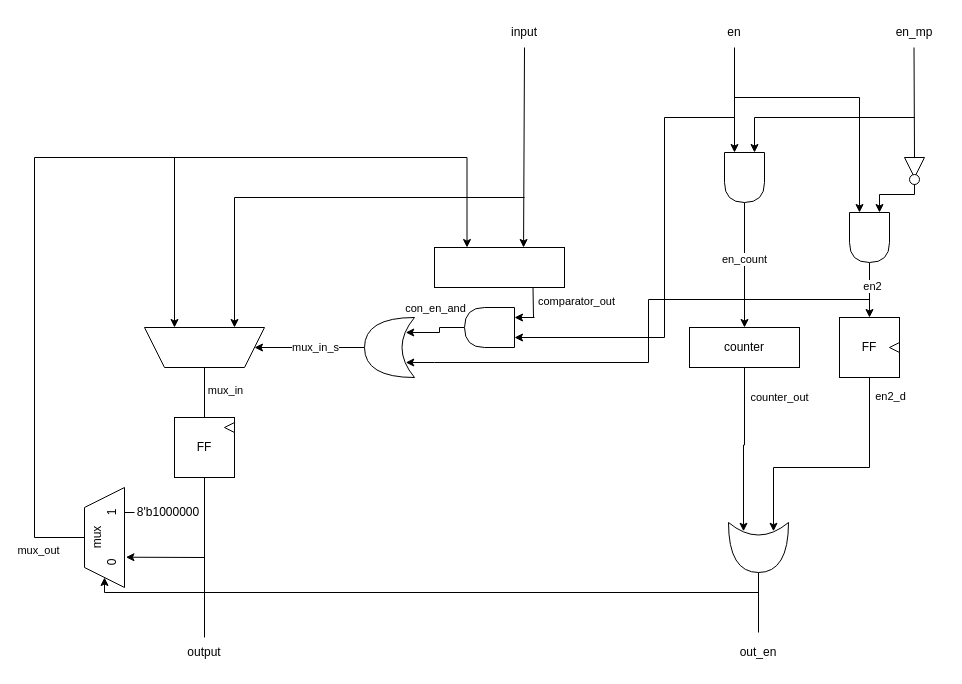
Some shapes in this 962 by 684 pixel diagram are drawn without their labels. Each missing label, with the centre of its shape:
0 1 comparator: pixel 499 267
mux 1 0: pixel 204 347
